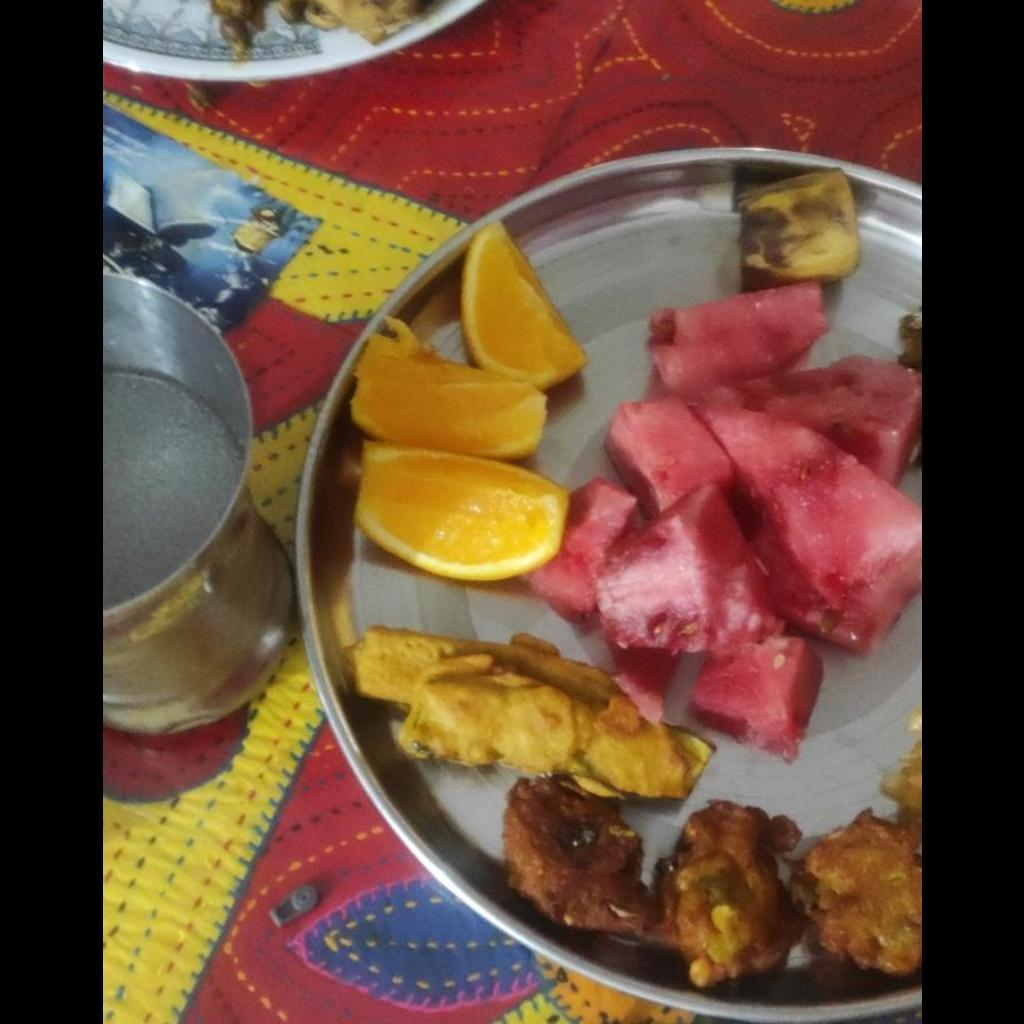banana: (734, 172, 863, 283)
beguni: (336, 627, 715, 802)
juice: (102, 369, 235, 611)
orange: (347, 220, 592, 572)
peyaju: (497, 754, 920, 983)
watermelon: (531, 286, 920, 754)
